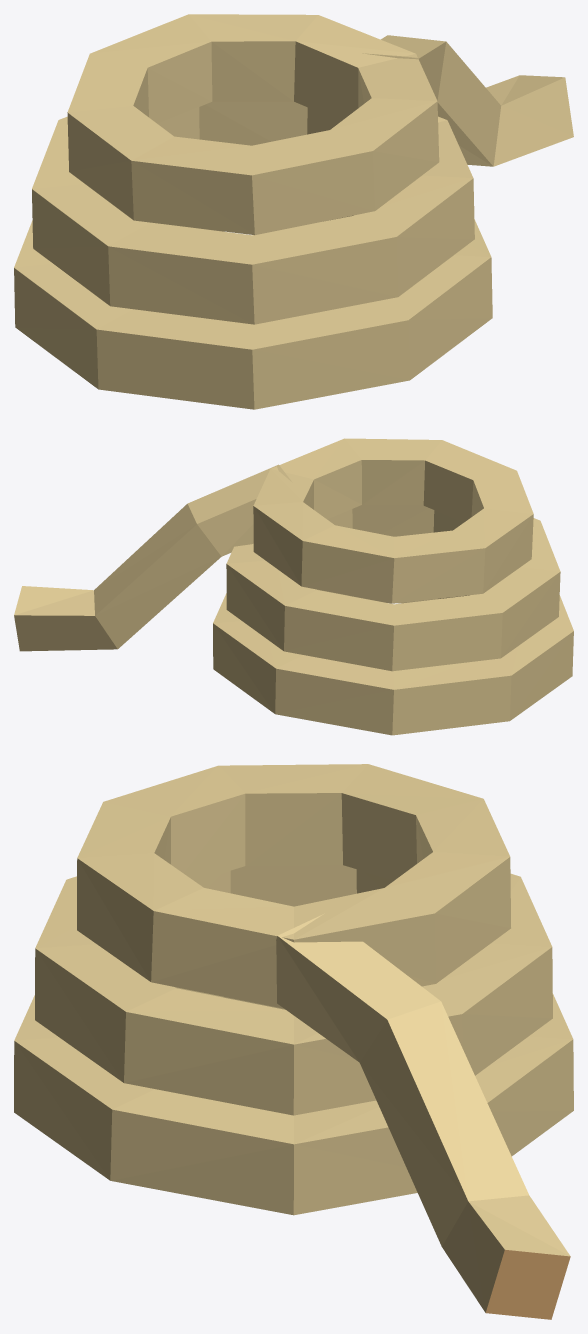
File: rope_coil.fbx
The picture shows the model from 3 angles, top to bottom: view 1: azimuth 30°, elevation 25°; view 2: azimuth 150°, elevation 25°; view 3: azimuth 270°, elevation 25°; orthographic projection. The views are drawn at different scales.
Visible parts, largest first — view 1: rope_coil; view 2: rope_coil; view 3: rope_coil.
Boxes of the visible parts, left/top/right/bottom form: rope_coil: left=14, top=14, right=573, bottom=409; rope_coil: left=14, top=438, right=573, bottom=735; rope_coil: left=14, top=764, right=573, bottom=1319.
Size of the model in its own units: 382 by 136 by 263.
1 material, 1 textured.
